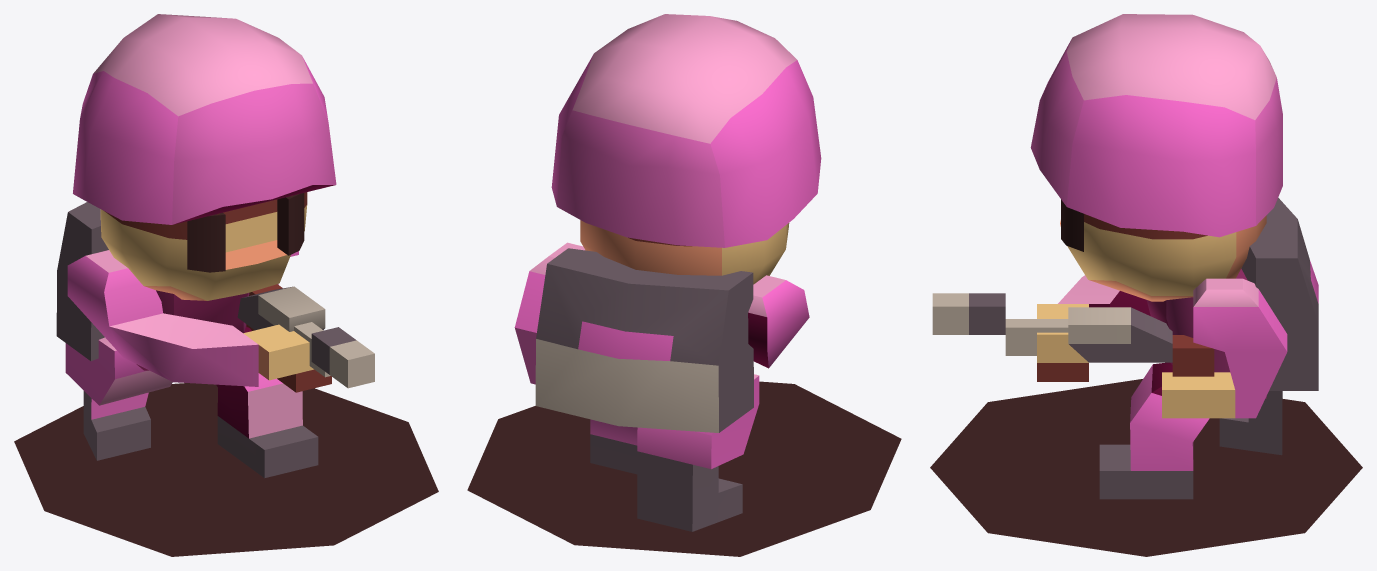
The model's file is InfantryMesh.PinkCosmos.glb.
The picture shows the model from 3 angles, left to right: view 1: azimuth 30°, elevation 25°; view 2: azimuth 150°, elevation 25°; view 3: azimuth 270°, elevation 25°; orthographic projection. The views are drawn at different scales.
Visible parts, largest first — view 1: InfantryMesh.PinkCosmos; view 2: InfantryMesh.PinkCosmos; view 3: InfantryMesh.PinkCosmos.
Part boxes in pixels (bbox=[...]): InfantryMesh.PinkCosmos: bbox=[14, 14, 438, 556]; InfantryMesh.PinkCosmos: bbox=[467, 14, 901, 556]; InfantryMesh.PinkCosmos: bbox=[930, 14, 1362, 556].
Size of the model in its own units: 2.03 by 2.3 by 2.07.
Materials: 1 (1 with a texture image).
